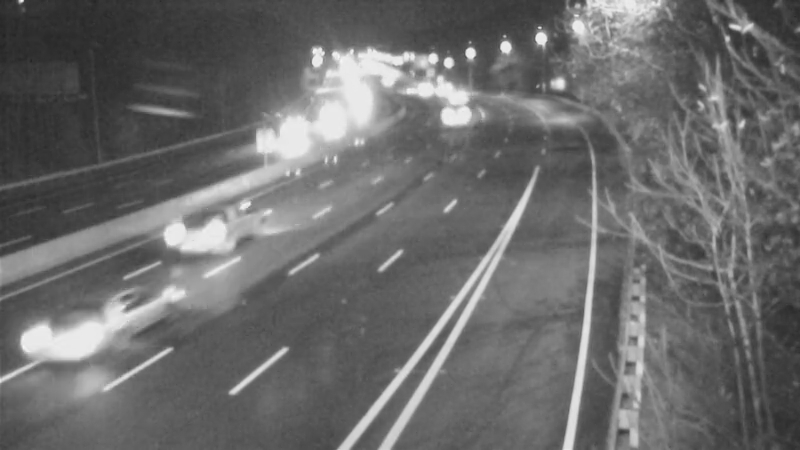vehicle: (16, 289, 126, 399), (177, 198, 257, 278), (401, 63, 451, 113), (385, 69, 435, 119), (434, 74, 484, 124), (428, 91, 478, 141), (263, 115, 313, 165), (311, 106, 361, 156)
